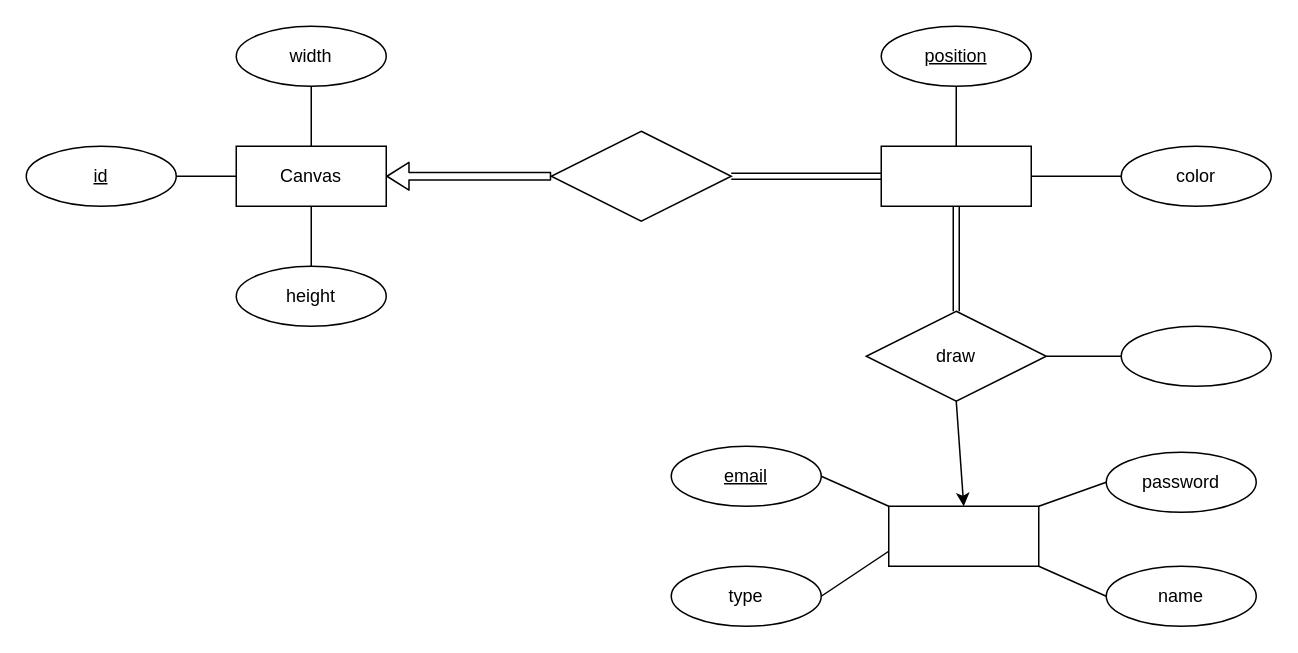
Some shapes in this 1298 by 653 pixel diagram are drawn without their labels. The centre of each missing label's shape, as x and y in pixels:
"has" goes at point 640,175.
"Pixel" goes at point 955,175.
"timestamp" goes at point 1195,355.
"User" goes at point 963,535.
